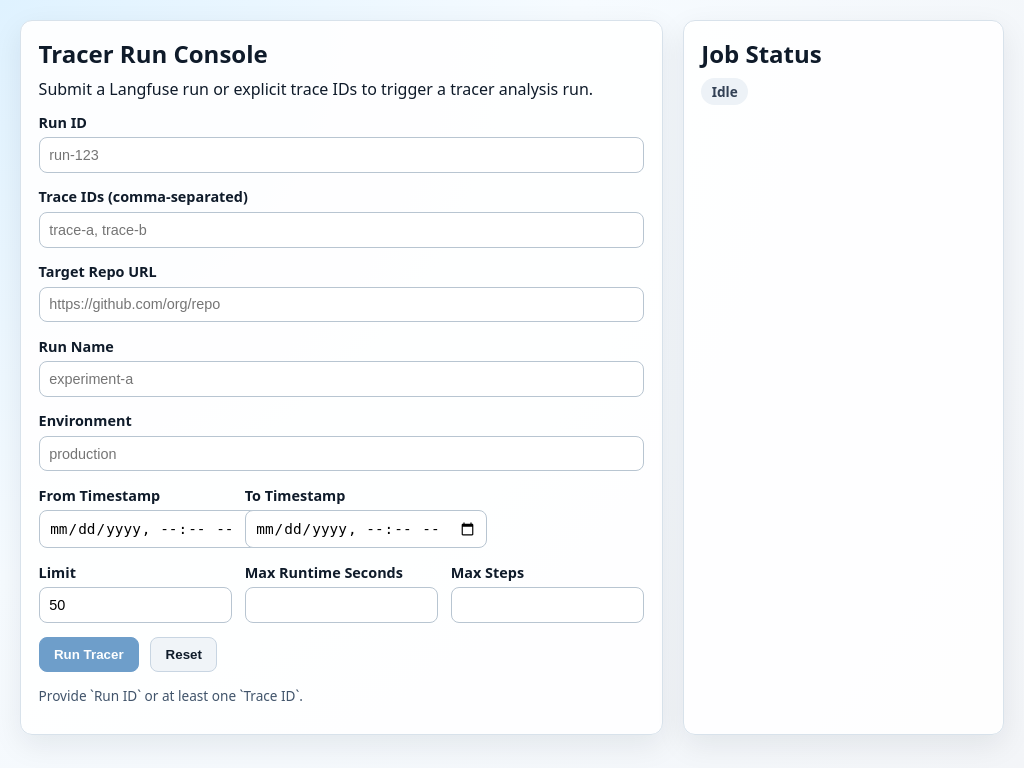
App tracer run UI › renders empty harness changes state and hides improvement metrics when none are returned
Type "run-empty-1" into the field labelled "Run ID" at (341, 155), box [39,137,644,173]
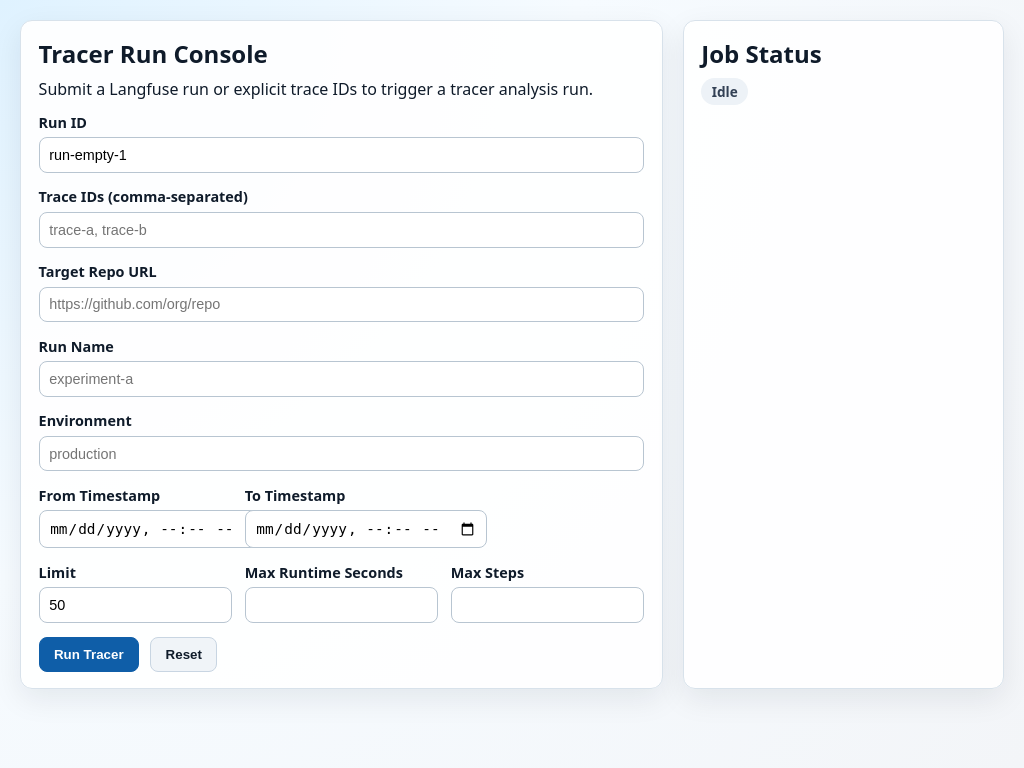
Click the button "Run Tracer" at (89, 654), box [39,637,139,672]
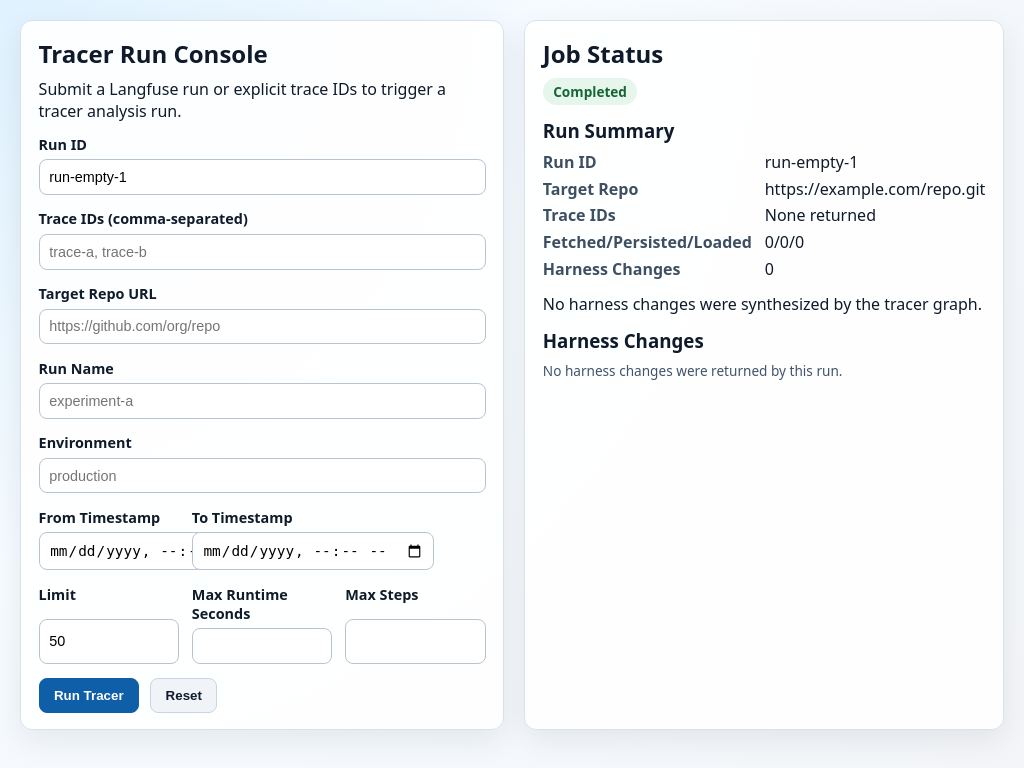
Expected: the text "Completed" is shown, [543,78,637,105]
Expected: the text "No harness changes were synthesized by the tracer graph." is shown, [543,293,985,315]
Expected: the text "No harness changes were returned by this run." is shown, [543,361,842,380]
